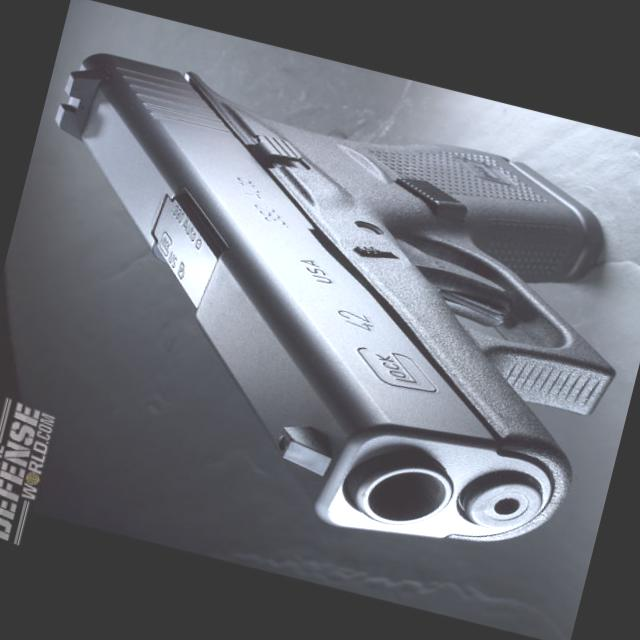handgun: (0, 40, 639, 576)
